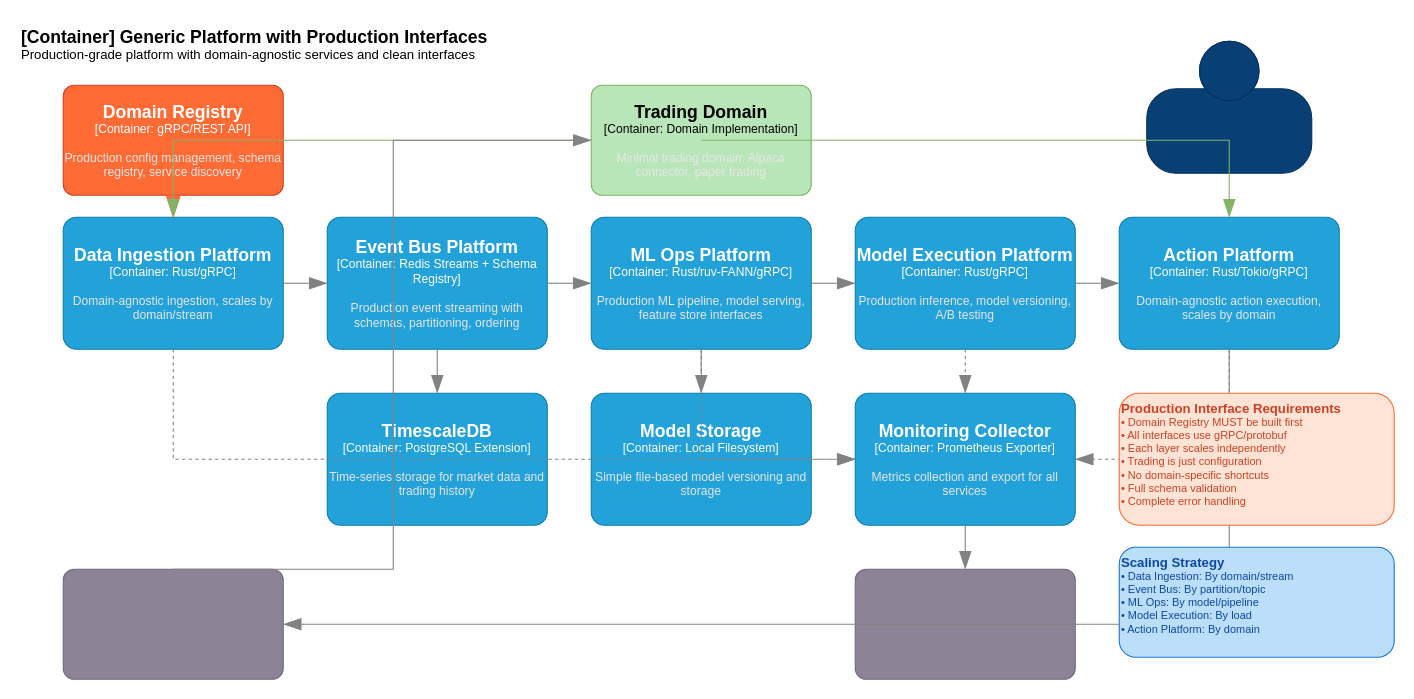
Image size: 1414x699. Some labels were removed from this diagram. The centre of each missing label's shape, as x and y in pixels:
"Alpaca Markets [External System] Brokerage API" goes at pixel 172 623.
"Prometheus/Grafana [External System] Monitoring stack" goes at pixel 964 623.
"Trader/Analyst [Person] Human operator" goes at pixel 1229 106.
